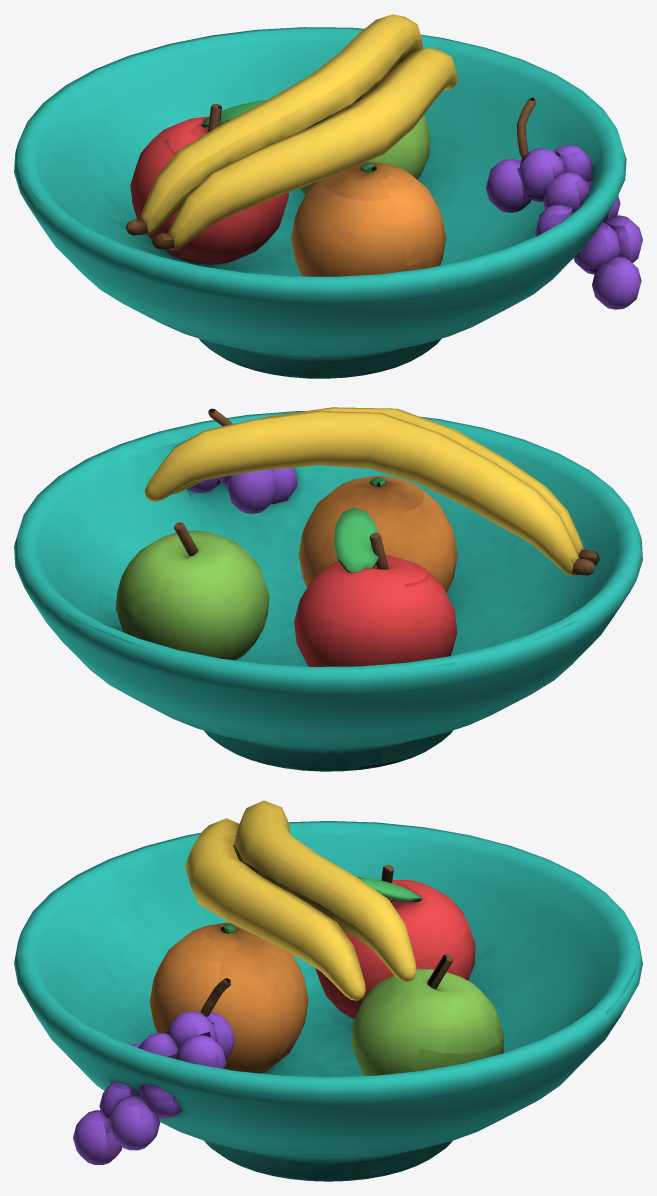
The model's file is fruit_bowl.glb.
3 views of the same model, one above another, from view 1: azimuth 30°, elevation 25°; view 2: azimuth 150°, elevation 25°; view 3: azimuth 270°, elevation 25° (orthographic). The views are drawn at different scales.
Parts seen in each view (by area): view 1: fruit_bowl; view 2: fruit_bowl; view 3: fruit_bowl.
Boxes of the visible parts, box(x1,y1,x2,y2) form: fruit_bowl: box(14, 14, 642, 378); fruit_bowl: box(14, 407, 642, 771); fruit_bowl: box(14, 800, 642, 1181).
Size of the model in its own units: 0.285 by 0.1451 by 0.285.
8 materials, 8 textured.
